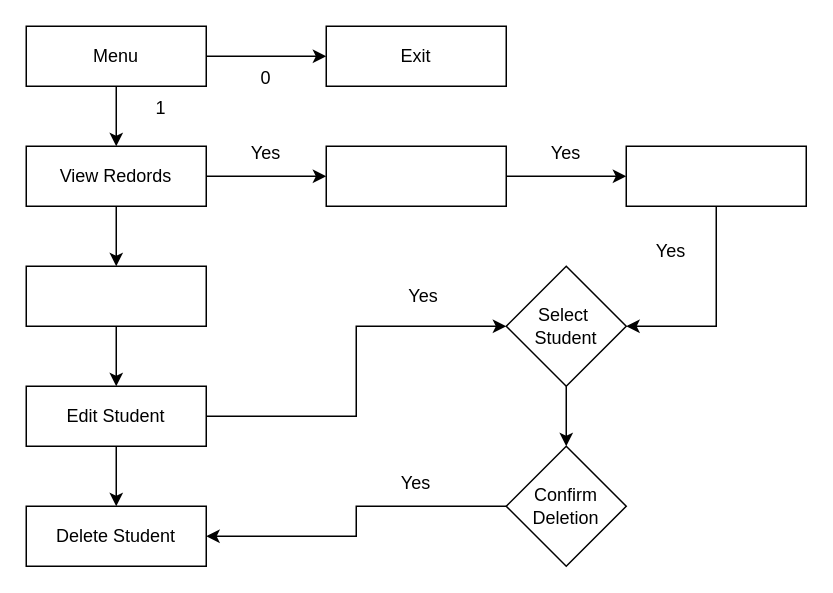
Some shapes in this 833 by 593 pixel diagram are drawn without their labels. The centre of each missing label's shape, as x and y in pixels:
"Add Student" belongs at point (115, 295).
"Display Redors" belongs at point (415, 175).
"New Student" belongs at point (715, 175).
